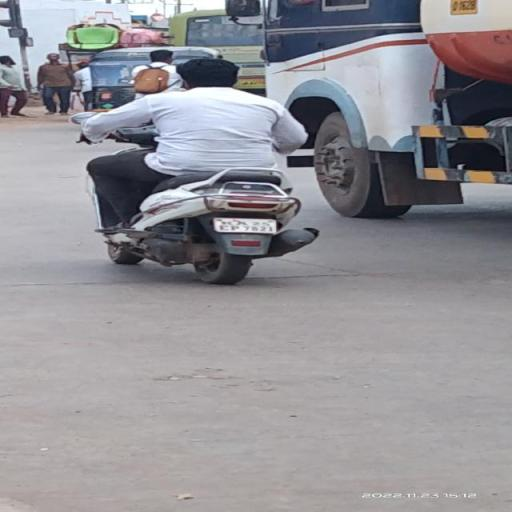bike: (72, 54, 323, 284)
numberplate: (213, 216, 278, 234)
withouthelmet: (180, 60, 238, 85)
